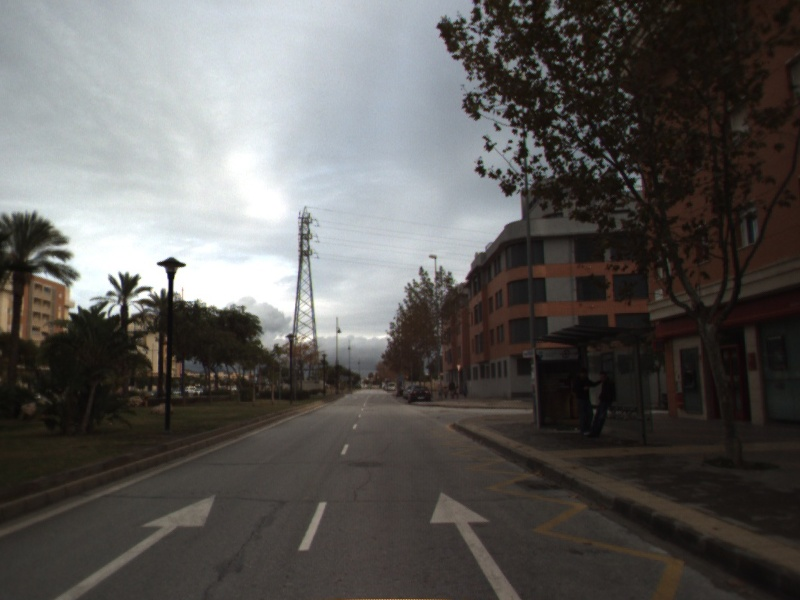STRAIGHT: (50, 492, 218, 600), (428, 489, 526, 600)
